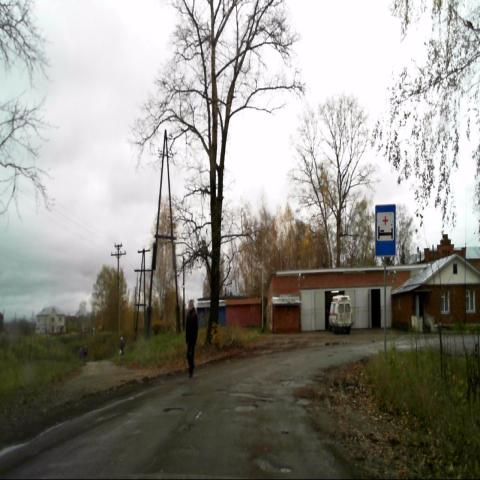7_2: (376, 204, 396, 257)
